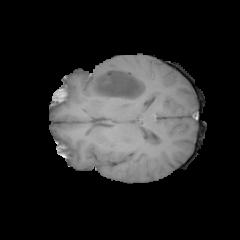glioma: (83, 68, 146, 167)
